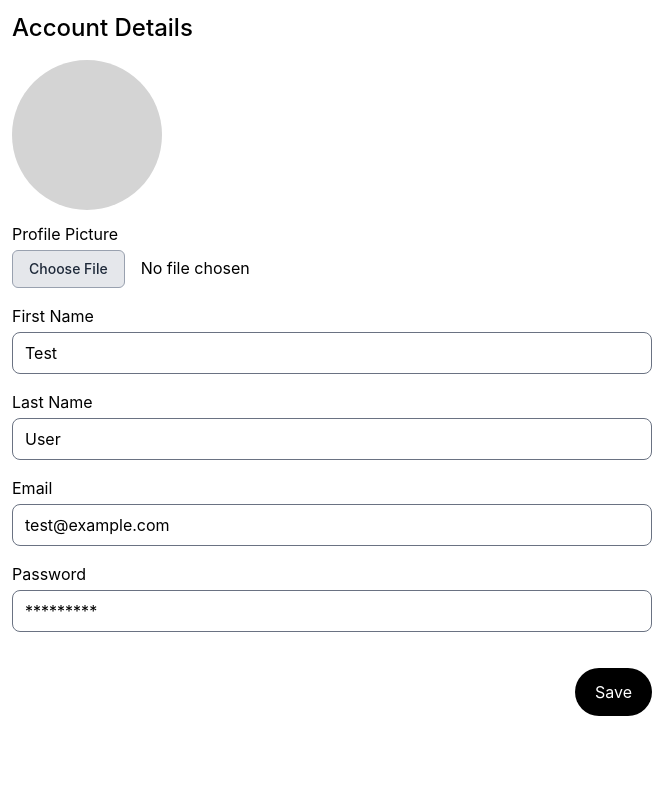
Test case: shows a success message after saving account details
Click the button "Save".
click(614, 692)  # box [575,668,652,716]
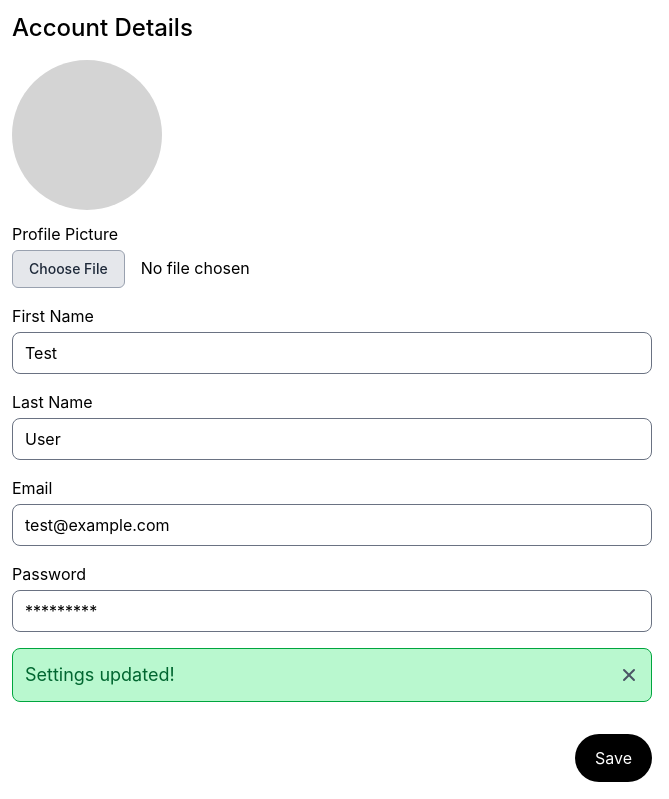
Check: the text "Settings updated!" is shown, box [25,661,175,689]
